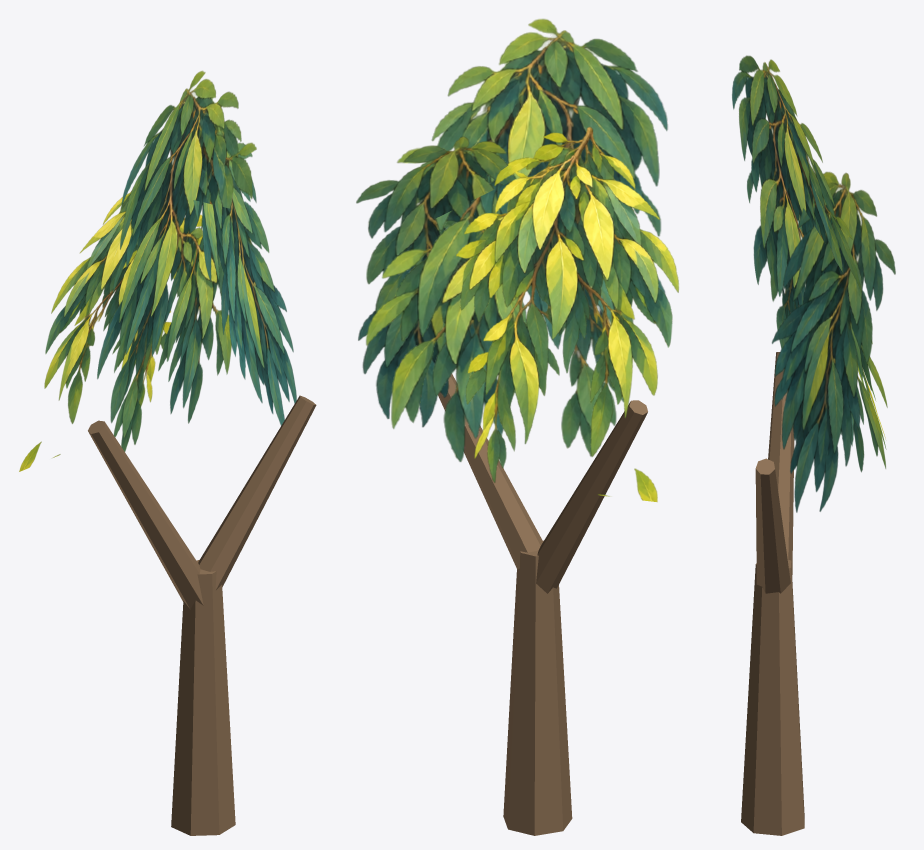
Rendered from TREE_NATIVE_ROUNDED_001_SHAPE_SAFE_LOD_MAP.glb.
3 renders of one model, left to right at view 1: azimuth 30°, elevation 25°; view 2: azimuth 150°, elevation 25°; view 3: azimuth 270°, elevation 25°, orthographic. The views are drawn at different scales.
Parts seen in each view (by area): view 1: GG_NATIVE_SHAPE_SAFE_CARD_00, GG_NATIVE_V4_LOCKED_CARCASS_00, GG_NATIVE_SHAPE_SAFE_CARD_02, GG_NATIVE_SHAPE_SAFE_CARD_01, GG_NATIVE_V4_LOCKED_CARCASS_02, GG_NATIVE_V4_LOCKED_CARCASS_01; view 2: GG_NATIVE_SHAPE_SAFE_CARD_00, GG_NATIVE_SHAPE_SAFE_CARD_01, GG_NATIVE_SHAPE_SAFE_CARD_02, GG_NATIVE_V4_LOCKED_CARCASS_00, GG_NATIVE_V4_LOCKED_CARCASS_01, GG_NATIVE_V4_LOCKED_CARCASS_02; view 3: GG_NATIVE_SHAPE_SAFE_CARD_02, GG_NATIVE_SHAPE_SAFE_CARD_00, GG_NATIVE_V4_LOCKED_CARCASS_00, GG_NATIVE_V4_LOCKED_CARCASS_02, GG_NATIVE_V4_LOCKED_CARCASS_01.
Part boxes in pixels (x1,y1,x2,y2): GG_NATIVE_SHAPE_SAFE_CARD_00: (97,70,256,451); GG_NATIVE_V4_LOCKED_CARCASS_00: (171,560,235,835); GG_NATIVE_SHAPE_SAFE_CARD_02: (193,127,296,425); GG_NATIVE_SHAPE_SAFE_CARD_01: (19,190,202,471); GG_NATIVE_V4_LOCKED_CARCASS_02: (198,395,316,590); GG_NATIVE_V4_LOCKED_CARCASS_01: (88,420,203,609); GG_NATIVE_SHAPE_SAFE_CARD_00: (366,19,667,461); GG_NATIVE_SHAPE_SAFE_CARD_01: (456,127,678,502); GG_NATIVE_SHAPE_SAFE_CARD_02: (356,136,516,427); GG_NATIVE_V4_LOCKED_CARCASS_00: (503,540,572,835); GG_NATIVE_V4_LOCKED_CARCASS_01: (536,400,647,593); GG_NATIVE_V4_LOCKED_CARCASS_02: (438,373,543,569); GG_NATIVE_SHAPE_SAFE_CARD_02: (772,171,895,512); GG_NATIVE_SHAPE_SAFE_CARD_00: (732,55,887,472); GG_NATIVE_V4_LOCKED_CARCASS_00: (741,560,804,835); GG_NATIVE_V4_LOCKED_CARCASS_02: (755,458,790,593); GG_NATIVE_V4_LOCKED_CARCASS_01: (768,352,794,575).
Bounding box in the file's own units: 17.46 × 41.89 × 9.55.
Materials: 2 (1 with a texture image).
